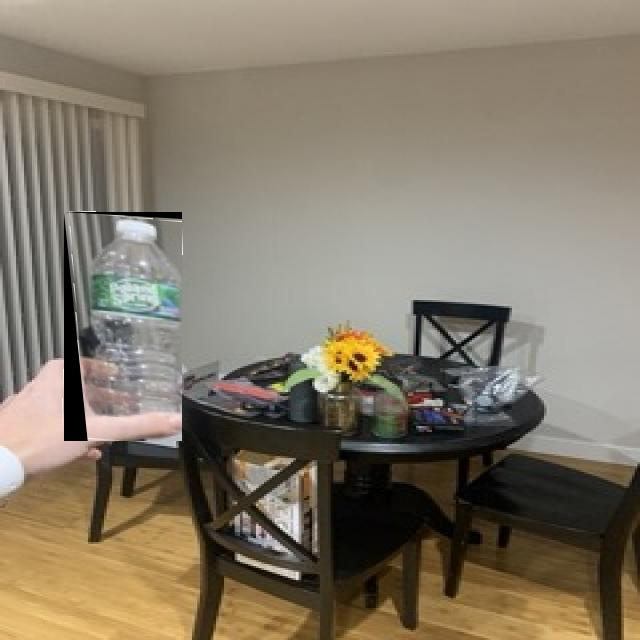water_bottle: (64, 212, 182, 441)
